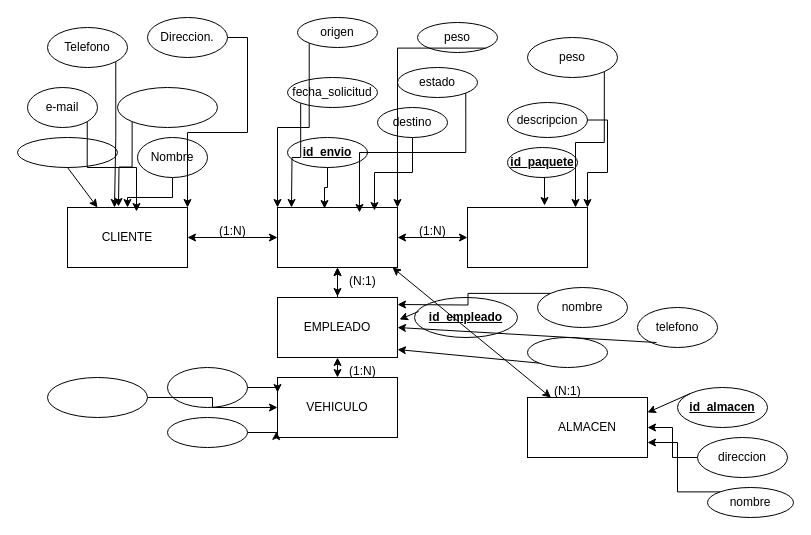
Image size: 811x535. Some labels were removed from this diagram. Here are the shapes that lost their labels. From the top down, the centre of each, then its label:
point (167, 107): DNI/CIF
point (67, 152): id cliente
point (337, 237): ENVIO
point (527, 237): PAQUETE
point (567, 352): cargo
point (97, 397): capacidad_kg
point (207, 387): matricula
point (207, 432): tipo
